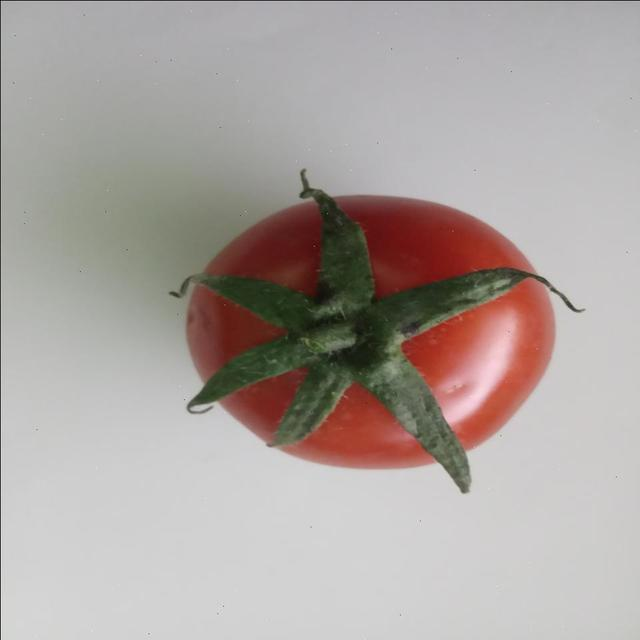Healthy Fruit: (120, 127, 374, 317)
